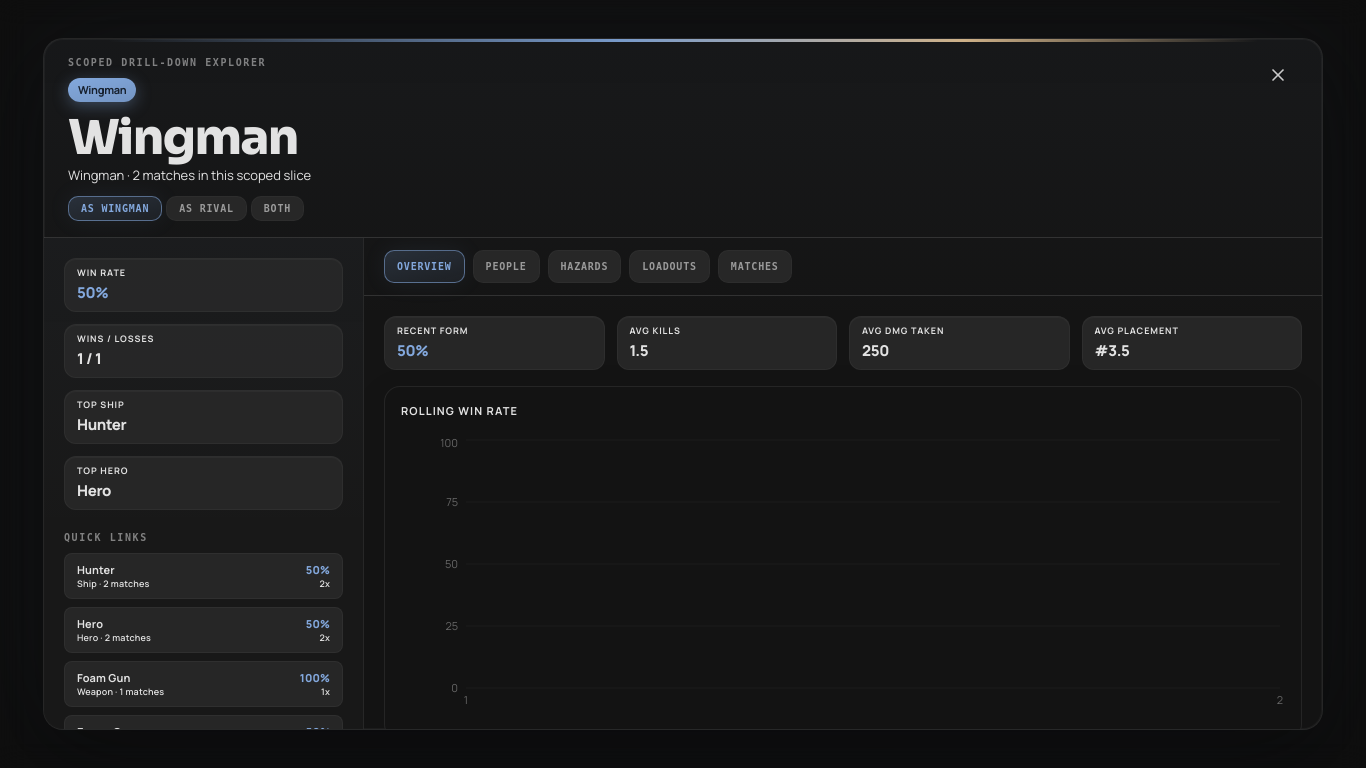
DrillDownOverlay › supports chained drill-down inside the overlay
Click the button "Hunter Ship · 2 matches 50% 2x" at (96, 570), box [64,553,343,599]
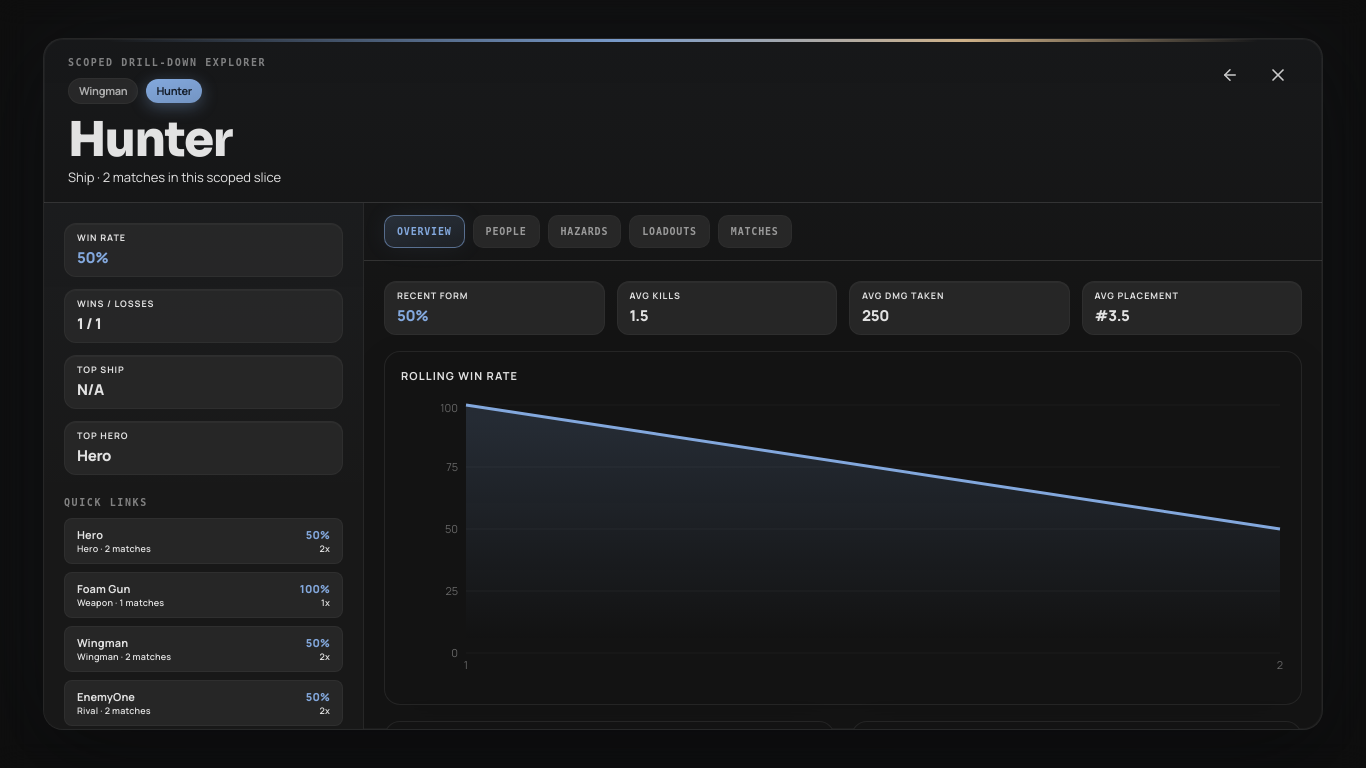
Now the heading "Hunter" is shown, box [68,109,232,170]
Now the button named "go back one drill-down level" is shown, box [1210,55,1250,95]
